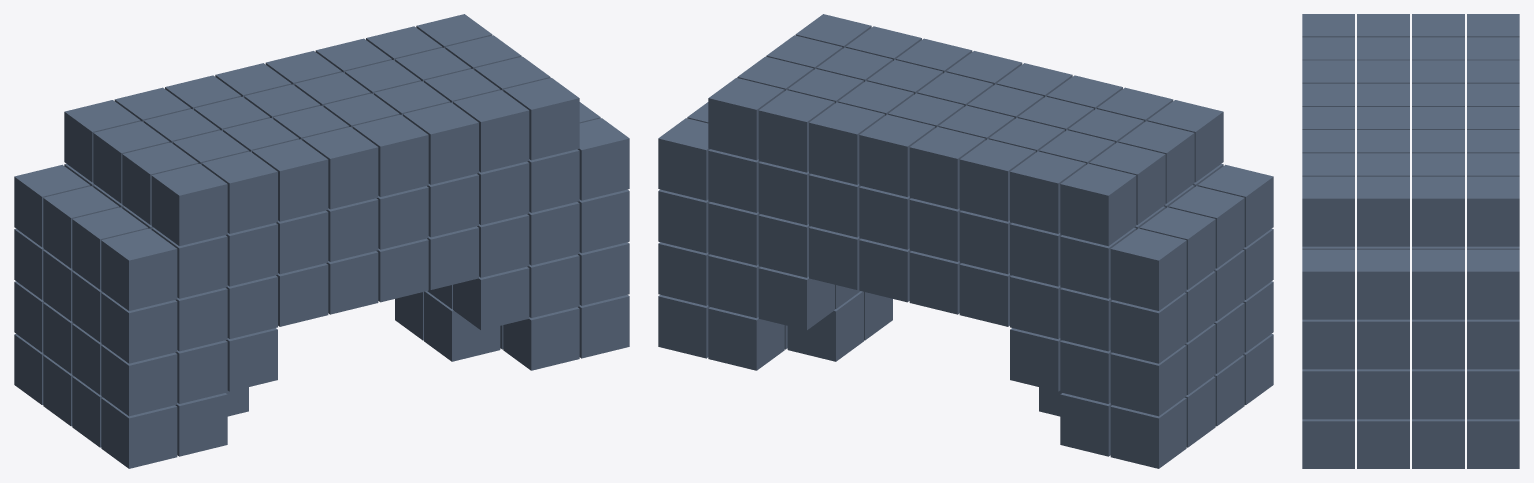
File: stabilized.glb
3 renders of one model, left to right at view 1: azimuth 30°, elevation 25°; view 2: azimuth 150°, elevation 25°; view 3: azimuth 270°, elevation 25°, orthographic. The views are drawn at different scales.
Parts seen in each view (by area): view 1: Original blocks; view 2: Original blocks; view 3: Original blocks.
Boxes of the visible parts, left/top/right/bottom form: Original blocks: left=14, top=14, right=629, bottom=468; Original blocks: left=658, top=14, right=1273, bottom=468; Original blocks: left=1302, top=14, right=1519, bottom=468.
Bounding box in the file's own units: 0.996 × 0.496 × 0.396.
